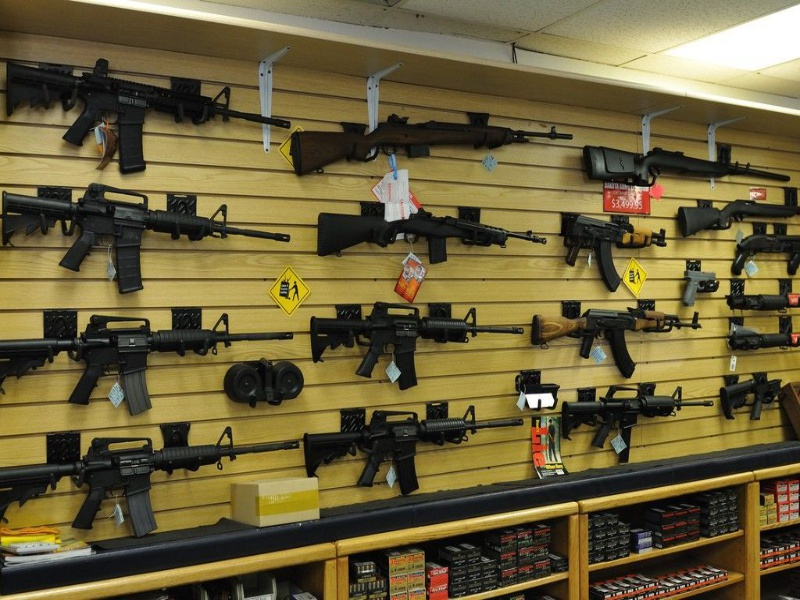gun: (1, 416, 297, 546), (3, 53, 288, 174), (3, 307, 295, 419), (5, 185, 295, 291), (296, 100, 575, 181), (310, 183, 538, 273), (305, 409, 530, 493), (305, 293, 524, 376), (530, 295, 709, 378), (580, 138, 795, 194), (561, 387, 715, 462), (559, 212, 667, 295), (675, 200, 800, 233), (716, 377, 790, 420), (726, 239, 800, 276), (687, 264, 720, 310)
